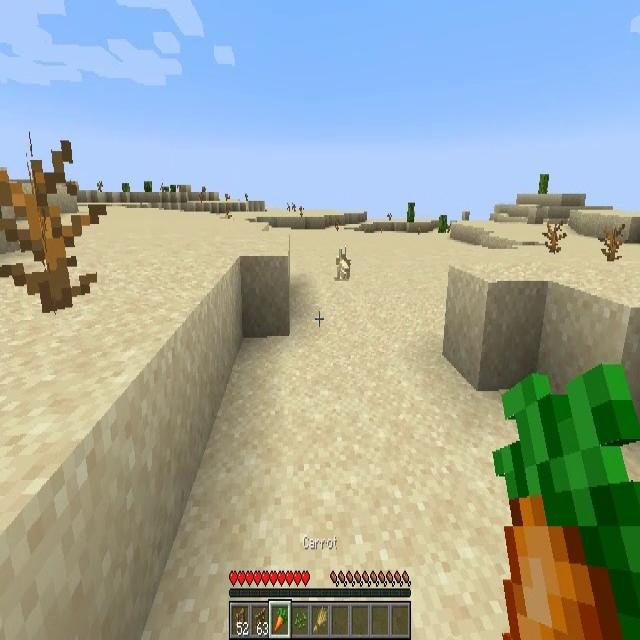rabbit: (336, 244, 350, 279)
